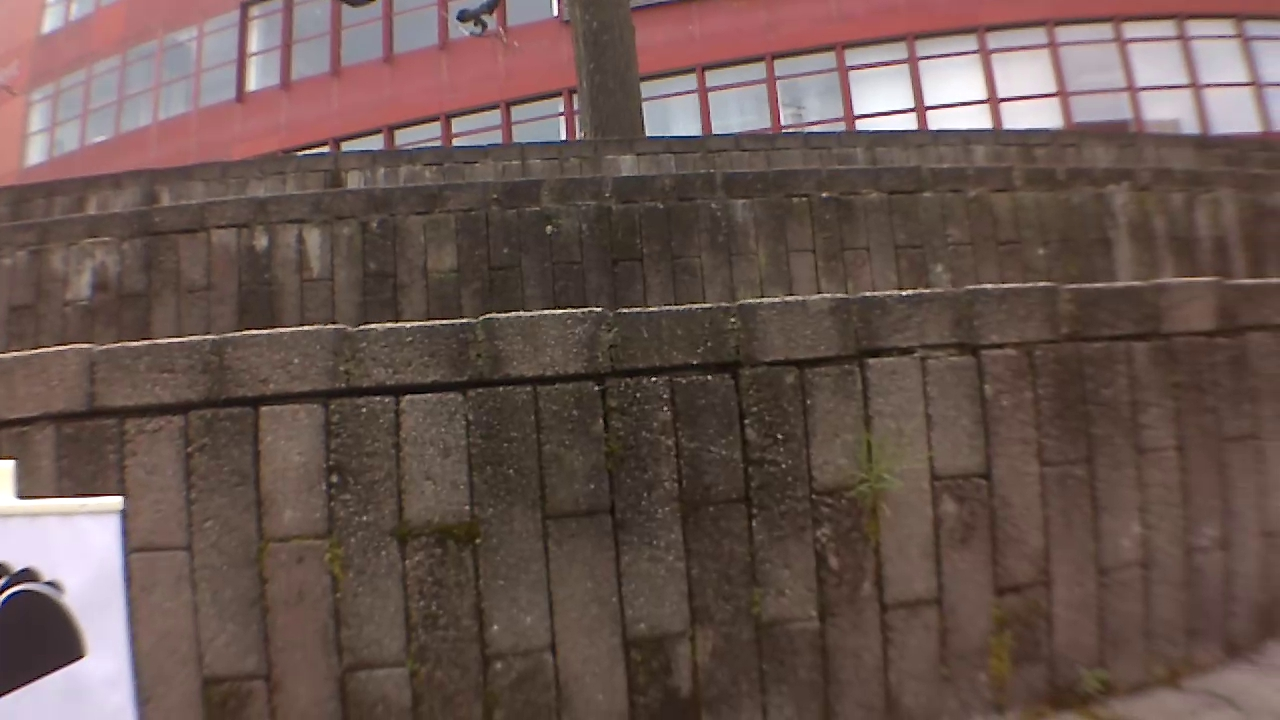taco: (0, 548, 91, 712)
